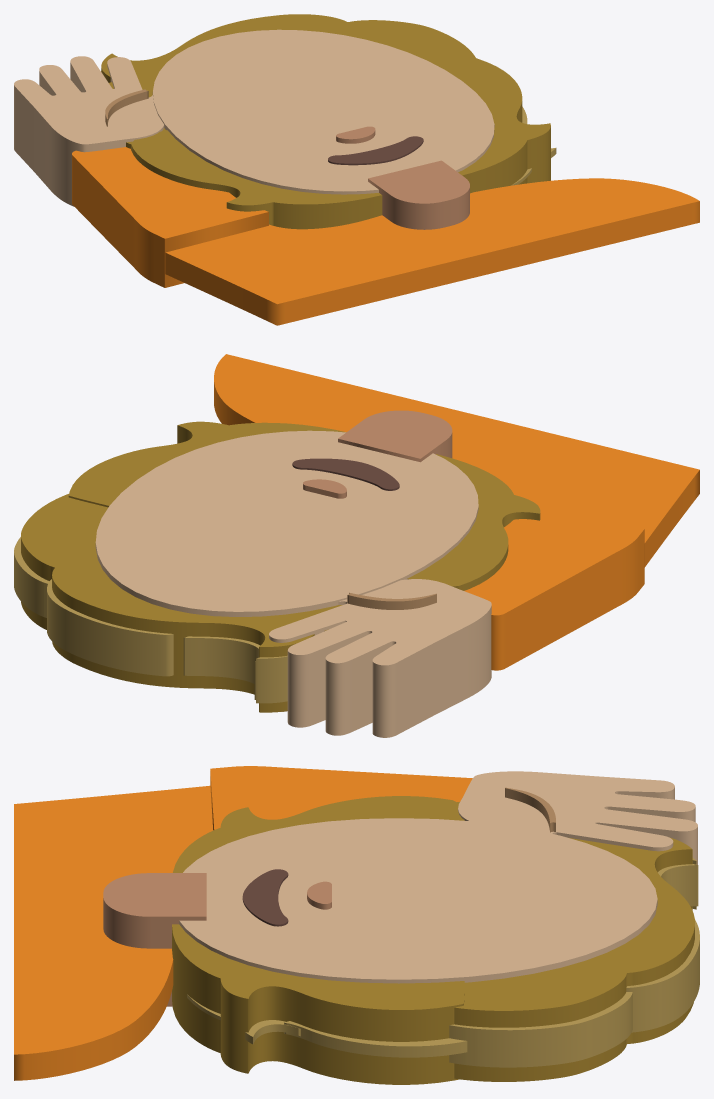
Rendered from emoji_u1f64b_1f3fc.glb.
The picture shows the model from 3 angles, top to bottom: view 1: azimuth 30°, elevation 25°; view 2: azimuth 150°, elevation 25°; view 3: azimuth 270°, elevation 25°; orthographic projection. The views are drawn at different scales.
Visible parts, largest first — view 1: emoji_u1f64b_1f3fc; view 2: emoji_u1f64b_1f3fc; view 3: emoji_u1f64b_1f3fc.
Part boxes in pixels (x1,y1,x2,y2): emoji_u1f64b_1f3fc: (14, 14, 699, 325); emoji_u1f64b_1f3fc: (14, 354, 699, 737); emoji_u1f64b_1f3fc: (14, 766, 699, 1084).
Size of the model in its own units: 0.0312 by 0.0052 by 0.0332.
